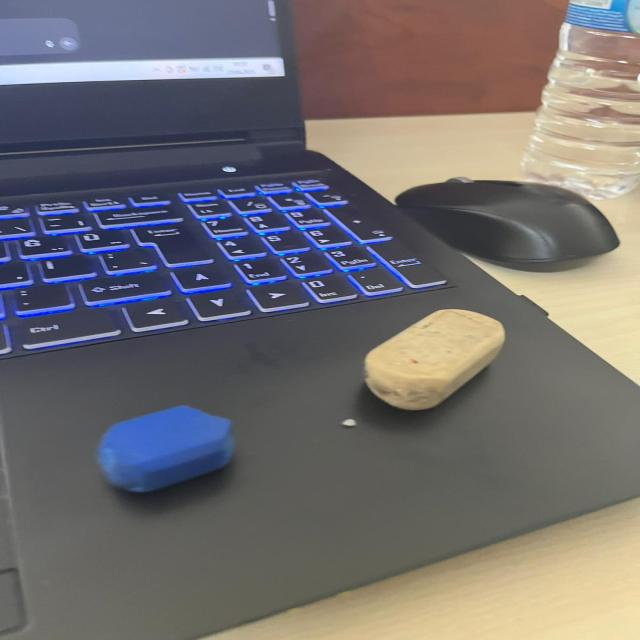eraser: (80, 397, 253, 501), (351, 306, 515, 415)
